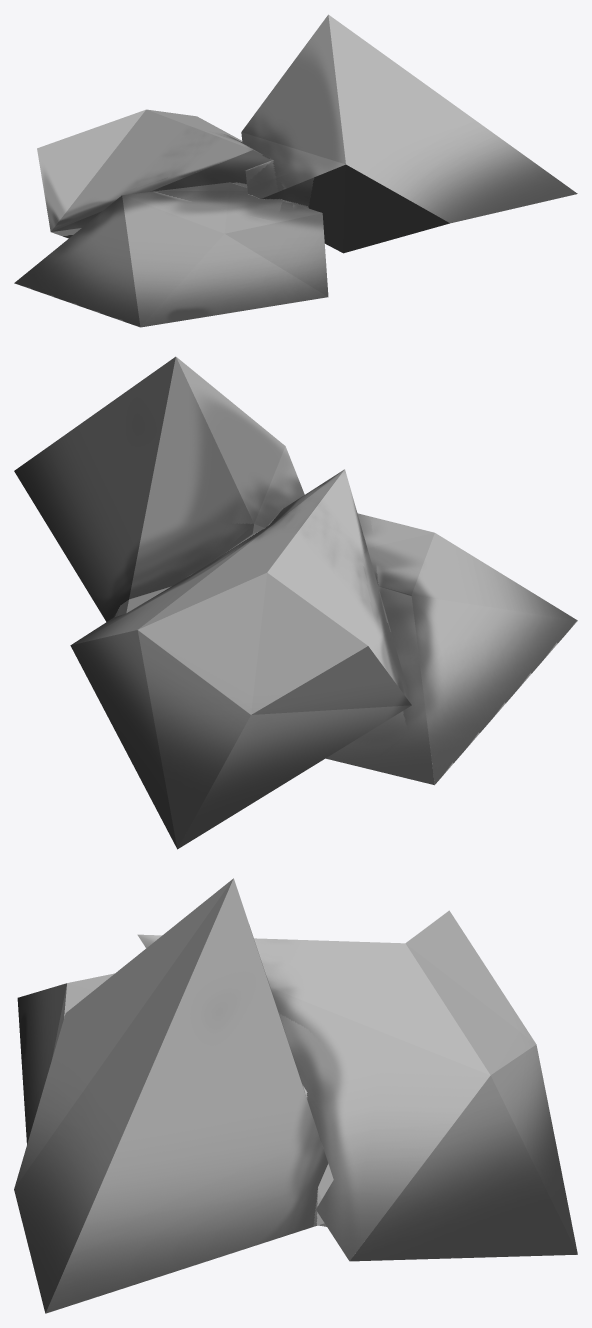
Rendered from stone0.dae.
3 renders of one model, top to bottom at view 1: azimuth 30°, elevation 25°; view 2: azimuth 150°, elevation 25°; view 3: azimuth 270°, elevation 25°, orthographic. The views are drawn at different scales.
Parts seen in each view (by area): view 1: stone0; view 2: stone0; view 3: stone0.
Boxes of the visible parts, <box> form: stone0: <box>14,14,577,327</box>; stone0: <box>14,356,577,849</box>; stone0: <box>14,878,577,1313</box>.
Bounding box in the file's own units: 0.6645 × 0.4537 × 0.4097.
Materials: 1 (1 with a texture image).
